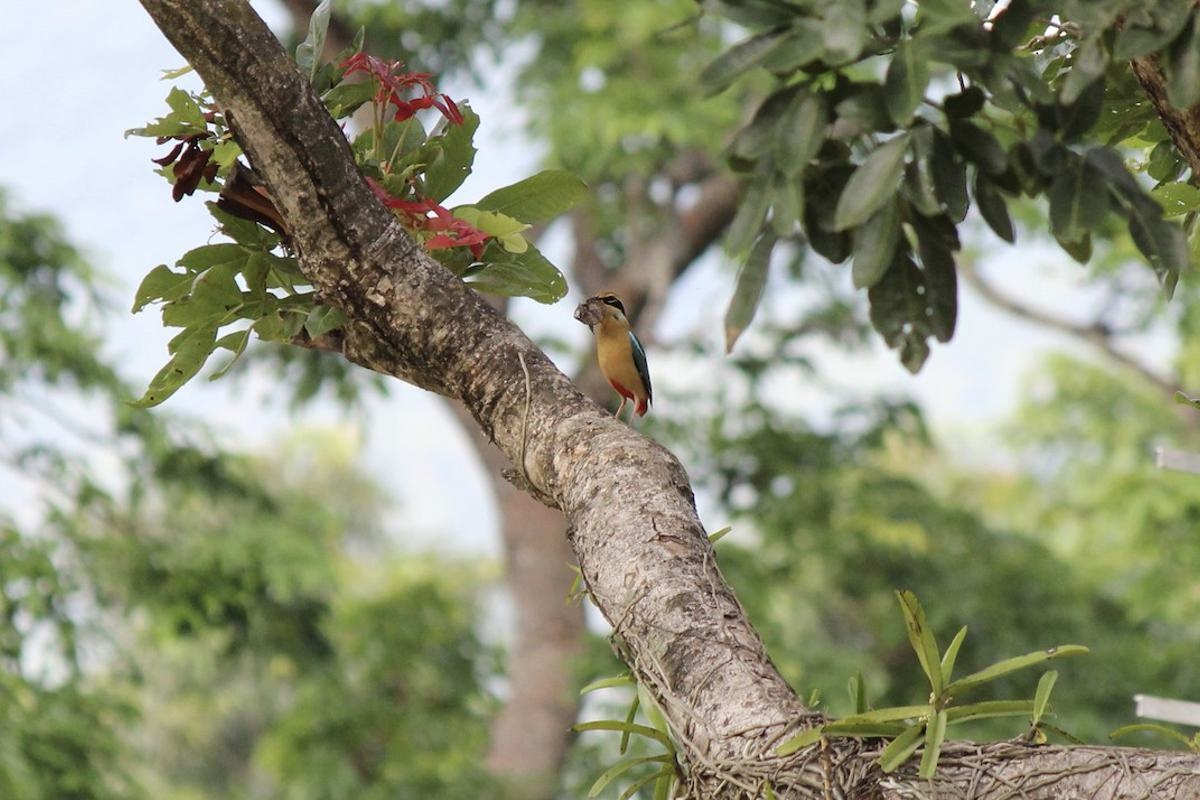pitta: (508, 215, 696, 438)
